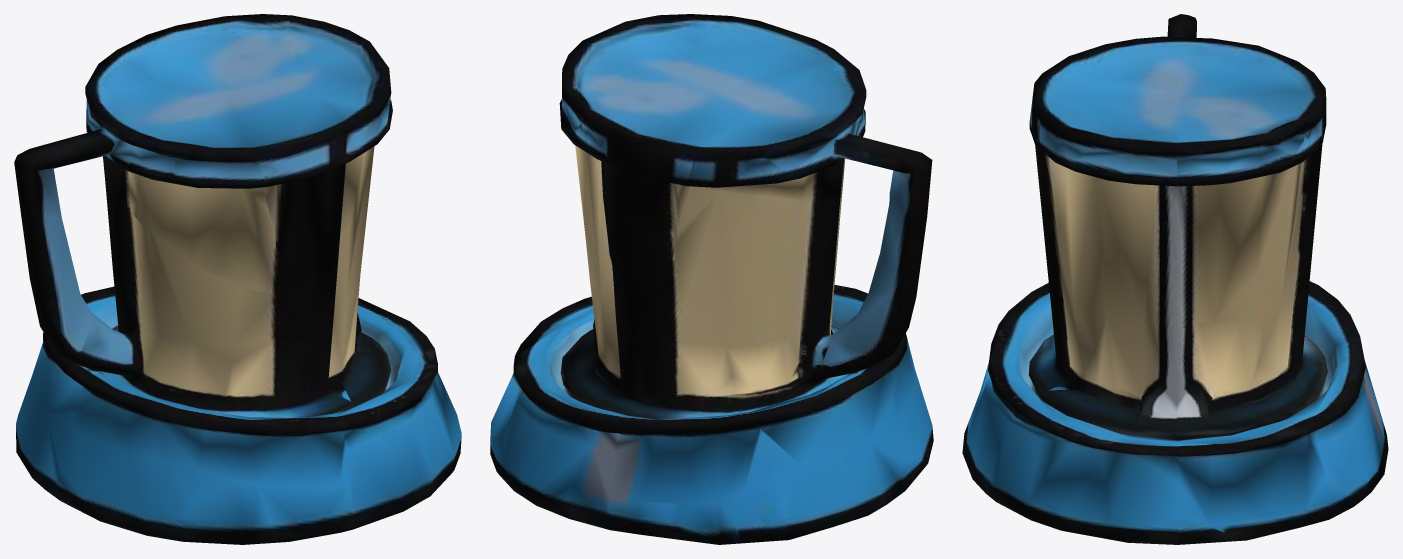
The model's file is bucket.glb.
3 renders of one model, left to right at view 1: azimuth 30°, elevation 25°; view 2: azimuth 150°, elevation 25°; view 3: azimuth 270°, elevation 25°, orthographic. The views are drawn at different scales.
Visible parts, largest first — view 1: tripo_node_74baabcb-8f04-4590-8163-842ecd6f8b04; view 2: tripo_node_74baabcb-8f04-4590-8163-842ecd6f8b04; view 3: tripo_node_74baabcb-8f04-4590-8163-842ecd6f8b04.
Part boxes in pixels (x1,y1,x2,y2): tripo_node_74baabcb-8f04-4590-8163-842ecd6f8b04: (14,14,461,544); tripo_node_74baabcb-8f04-4590-8163-842ecd6f8b04: (490,14,933,544); tripo_node_74baabcb-8f04-4590-8163-842ecd6f8b04: (962,14,1388,544).
Bounding box in the file's own units: 0.9952 × 0.9618 × 0.9153.
Materials: 1 (1 with a texture image).
